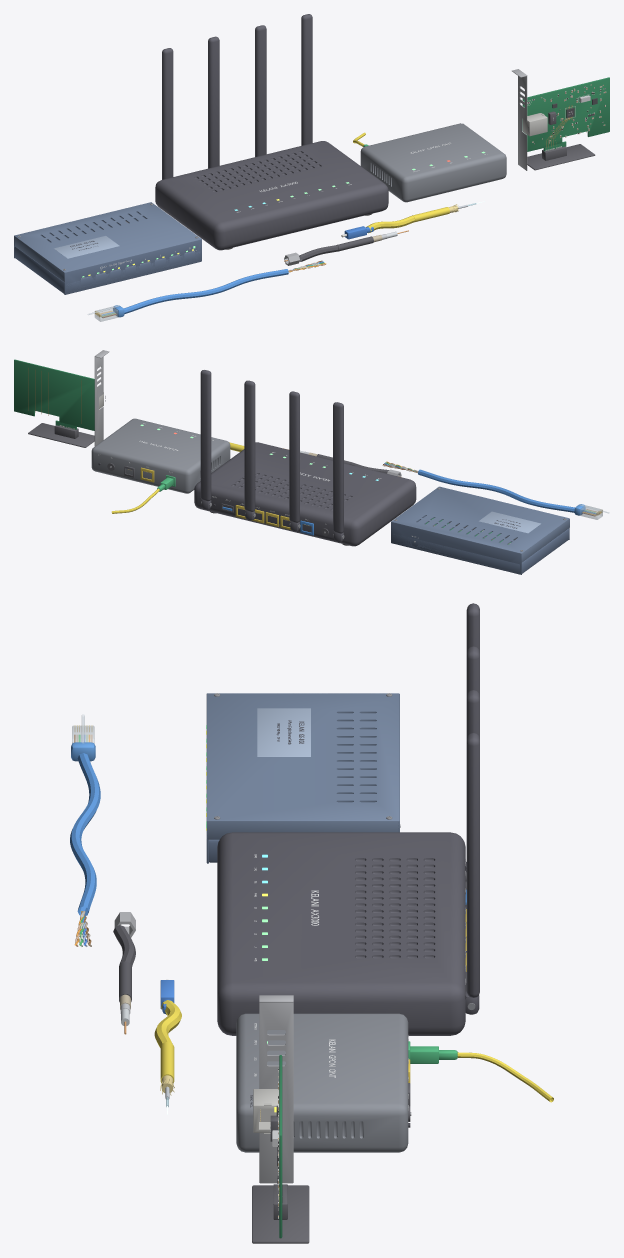
The model's file is netdev.glb.
3 views of the same model, one above another, from view 1: azimuth 30°, elevation 25°; view 2: azimuth 150°, elevation 25°; view 3: azimuth 270°, elevation 25° (orthographic). The views are drawn at different scales.
Parts seen in each view (by area): view 1: Rt_all, Ont_all, Sw_lid_all, Nic_all, Rt_ant_all, Sw_case_all, Utp_all, Fibre_all, Coax_all; view 2: Rt_all, Sw_lid_all, Ont_all, Rt_ant_all, Nic_all, Sw_case_all, Utp_all; view 3: Rt_all, Sw_lid_all, Ont_all, Nic_all, Rt_ant_all, Utp_all, Fibre_all, Coax_all.
Part boxes in pixels (x1,y1,x2,y2): Rt_all: (155,141,388,250); Ont_all: (353,123,506,202); Sw_lid_all: (14,202,201,282); Nic_all: (512,69,609,170); Rt_ant_all: (162,14,312,179); Sw_case_all: (14,212,201,294); Utp_all: (87,269,288,321); Fibre_all: (341,207,449,239); Coax_all: (284,236,373,265); Rt_all: (194,442,416,546); Sw_lid_all: (391,486,569,562); Ont_all: (91,418,230,513); Rt_ant_all: (200,370,344,541); Nic_all: (14,350,109,447); Sw_case_all: (391,516,569,574); Utp_all: (418,469,609,519); Rt_all: (217,832,466,1035); Sw_lid_all: (206,693,399,839); Ont_all: (236,1013,553,1152); Nic_all: (250,995,309,1243); Rt_ant_all: (465,603,479,1014); Utp_all: (70,714,100,915); Fibre_all: (154,979,181,1083); Coax_all: (113,912,135,1002).
Size of the model in its own units: 0.6598 by 0.1713 by 0.2531.
